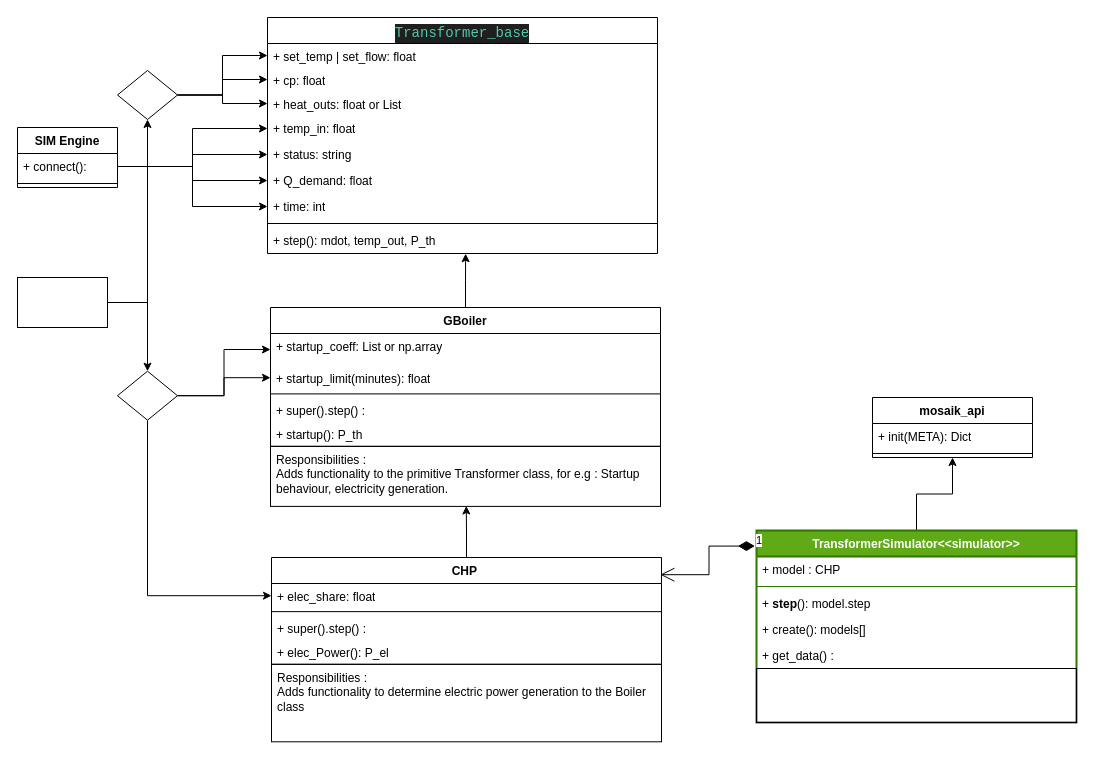
This 1095x762 diagram has some shape labels left out. The shapes that lost their labels are listed below. From the top down, each one's centre as x and y in pixels, then its label:
At (x=62, y=302): "params <<config>>".
At (x=916, y=695): "Responsibilities : Contains the methods required by mosaik.".
